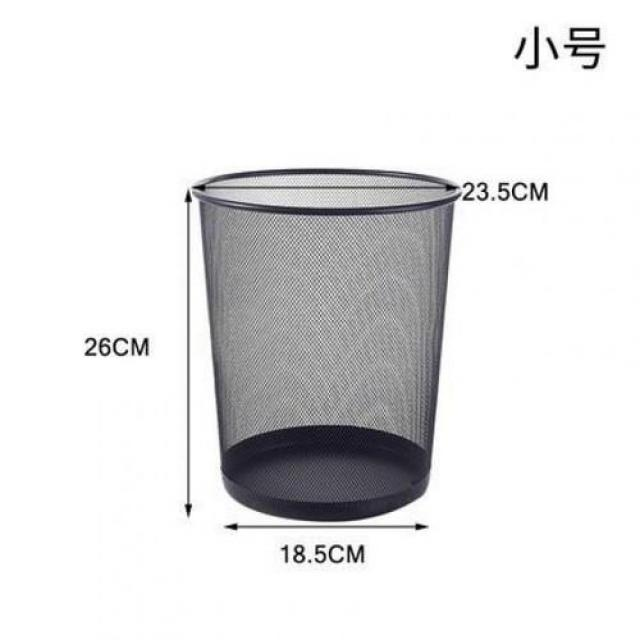Dustbin: (193, 162, 466, 525)
